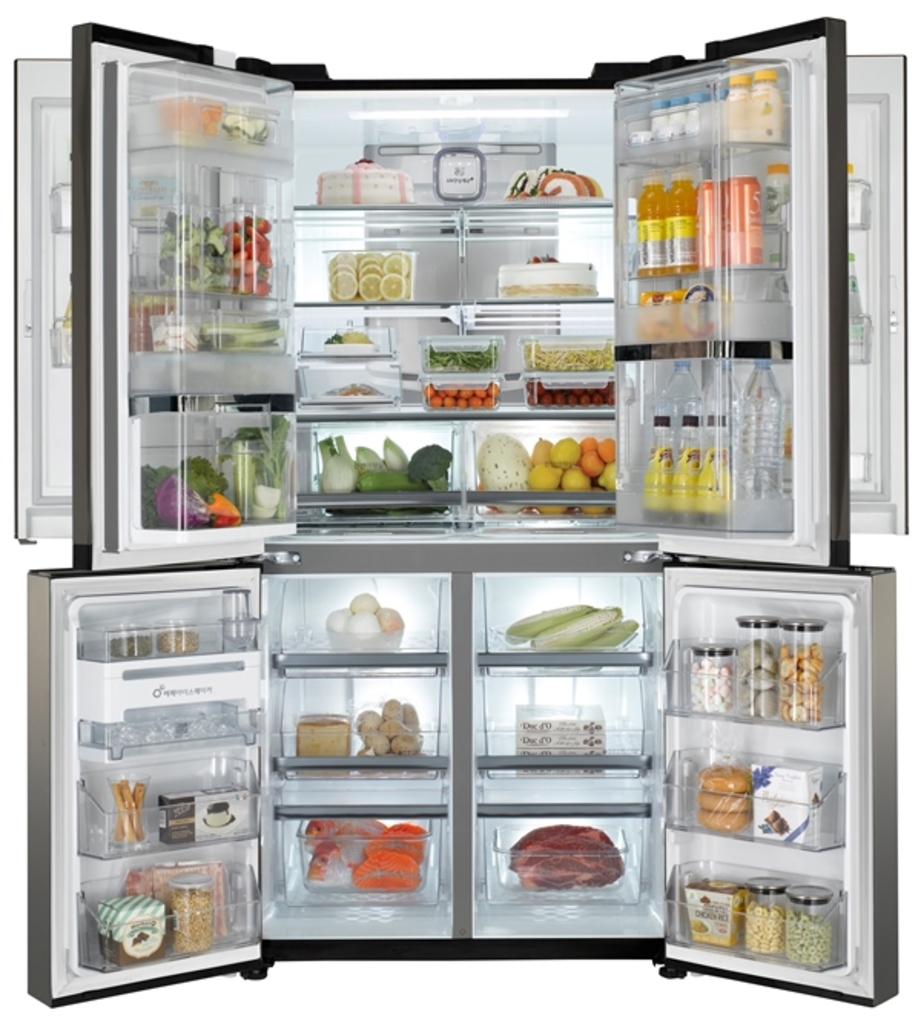refrigerator door: (93, 81, 301, 539), (636, 73, 819, 546), (37, 576, 255, 944), (682, 592, 866, 983), (845, 84, 904, 518), (24, 73, 71, 523)
